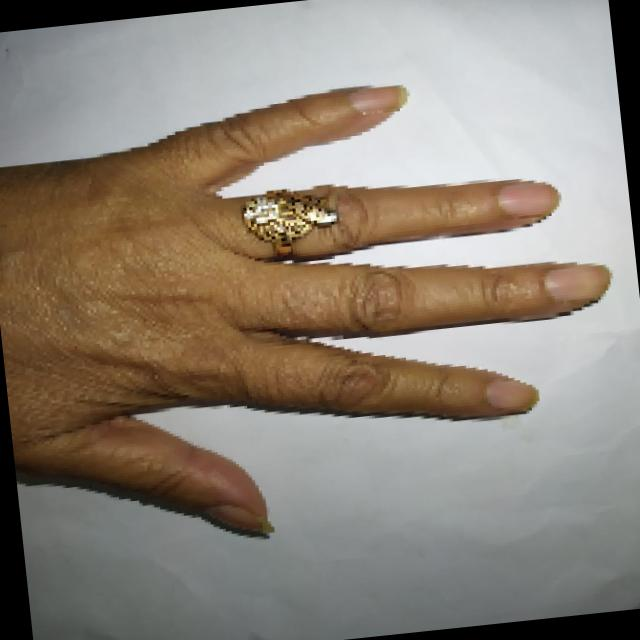Nail: (542, 264, 609, 305), (498, 182, 557, 217), (484, 379, 537, 413), (208, 503, 269, 532), (347, 86, 405, 114)
